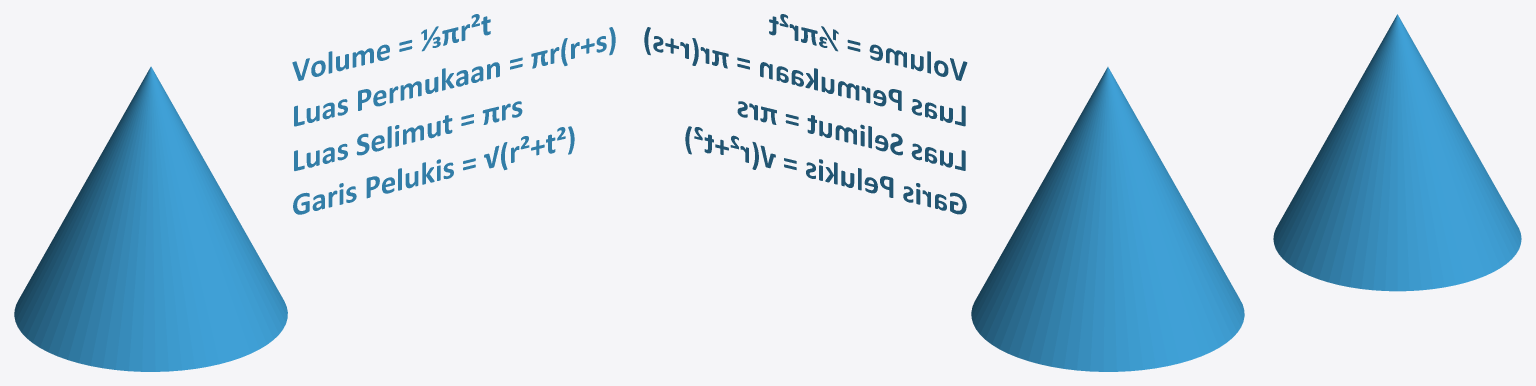
File: kerucut.glb
3 views of the same model, side by side, from view 1: azimuth 30°, elevation 25°; view 2: azimuth 150°, elevation 25°; view 3: azimuth 270°, elevation 25° (orthographic). The views are drawn at different scales.
Visible parts, largest first — view 1: world.004, Text.001; view 2: world.004, Text.001; view 3: world.004.
Boxes of the visible parts, x1,y1,x2,y2 form: world.004: [14, 66, 287, 371]; Text.001: [292, 14, 615, 214]; world.004: [971, 67, 1244, 371]; Text.001: [644, 14, 967, 214]; world.004: [1273, 14, 1521, 291].
Bounding box in the file's own units: 2.46 × 1 × 1.
